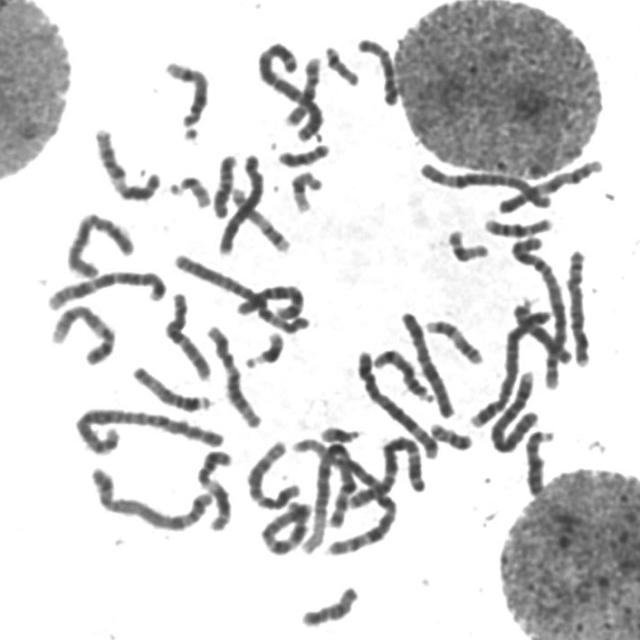A1: (286, 433, 403, 558), (291, 435, 358, 555)
A2: (504, 227, 571, 385), (68, 400, 227, 456)
A3: (252, 36, 326, 143), (342, 429, 427, 512)
B4: (465, 298, 555, 429), (484, 364, 540, 454)
B5: (352, 343, 443, 460), (84, 461, 218, 533)
C10: (159, 286, 214, 382), (231, 278, 306, 320)
C11: (88, 120, 163, 204), (191, 443, 235, 533)
C12: (200, 319, 264, 429), (241, 434, 303, 510)
C6: (168, 247, 310, 336), (414, 155, 556, 212)
C7: (41, 264, 169, 312), (254, 496, 314, 557)
C8: (213, 150, 269, 260), (561, 242, 594, 369)
C9: (492, 153, 606, 215), (44, 298, 118, 367)
D13: (508, 296, 576, 366), (520, 422, 556, 499)
D14: (157, 53, 212, 140), (366, 342, 435, 404)
D15: (126, 359, 214, 413), (351, 31, 400, 107)
E16: (280, 50, 323, 127), (479, 210, 556, 238)
E17: (226, 182, 292, 254), (419, 314, 486, 366)
E18: (295, 580, 361, 629), (208, 148, 240, 220)
F19: (442, 222, 492, 264), (285, 165, 325, 214)
F20: (424, 417, 475, 452), (273, 138, 332, 168)
G21: (238, 325, 287, 370), (314, 418, 364, 444)
G22: (319, 39, 362, 88), (164, 169, 214, 211)
X: (395, 306, 457, 420), (62, 210, 136, 282)
